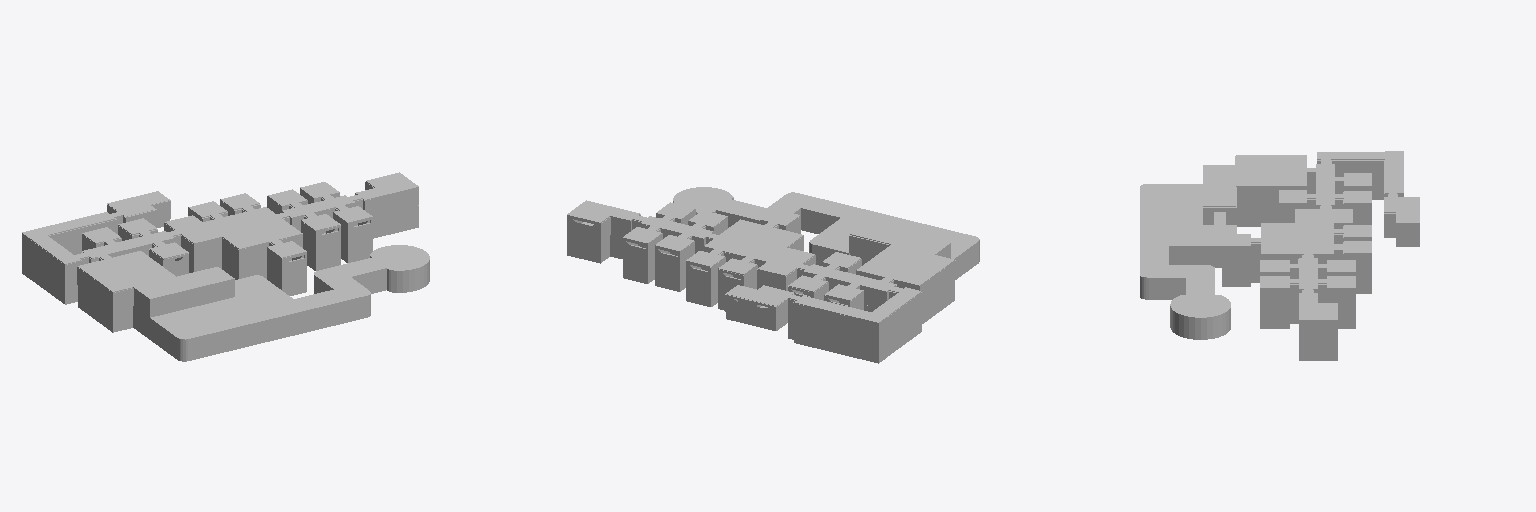
File: map1.obj
The picture shows the model from 3 angles: view 1: azimuth 30°, elevation 25°; view 2: azimuth 150°, elevation 25°; view 3: azimuth 270°, elevation 25°; orthographic projection.
Visible parts, largest first — view 1: Techo_Cube.196, Paredes_Cube.181, CespedFuera_Cube.193, Suelo_Cube.038, Agua_Cylinder; view 2: Techo_Cube.196, Paredes_Cube.181, Suelo_Cube.038, CespedFuera_Cube.193, Agua_Cylinder; view 3: Techo_Cube.196, CespedFuera_Cube.193, Paredes_Cube.181, Suelo_Cube.038, Agua_Cylinder.
Boxes of the visible parts, box(x1,y1,x2,y2) form: Techo_Cube.196: box(22, 172, 418, 299); Paredes_Cube.181: box(22, 182, 418, 317); CespedFuera_Cube.193: box(150, 258, 386, 361); Suelo_Cube.038: box(22, 205, 418, 339); Agua_Cylinder: box(370, 245, 429, 292); Techo_Cube.196: box(567, 200, 954, 323); Paredes_Cube.181: box(567, 210, 955, 341); Suelo_Cube.038: box(567, 222, 954, 363); CespedFuera_Cube.193: box(716, 192, 979, 279); Agua_Cylinder: box(673, 187, 733, 214); Techo_Cube.196: box(1203, 151, 1419, 320); CespedFuera_Cube.193: box(1140, 184, 1236, 299); Paredes_Cube.181: box(1203, 156, 1419, 337); Suelo_Cube.038: box(1214, 178, 1419, 360); Agua_Cylinder: box(1170, 295, 1230, 339).
Bounding box in the file's own units: 1631 × 184 × 1149.